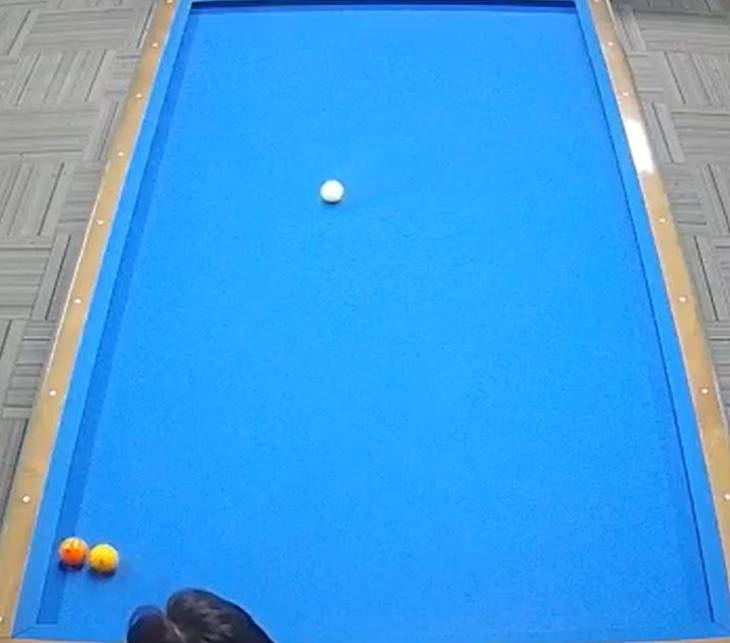orange ball: (51, 535, 91, 572)
white ball: (313, 177, 351, 211)
yellow ball: (87, 541, 121, 577)
